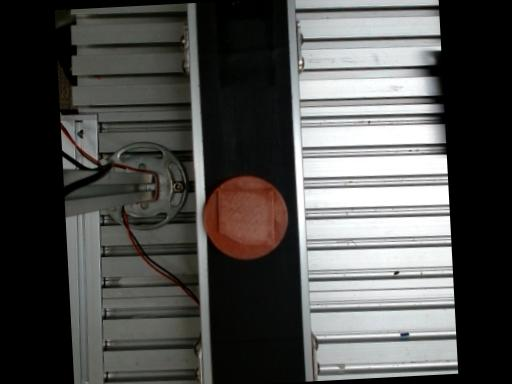Brown_Waper: (205, 175, 287, 259)
Not_Square: (217, 188, 275, 244)
